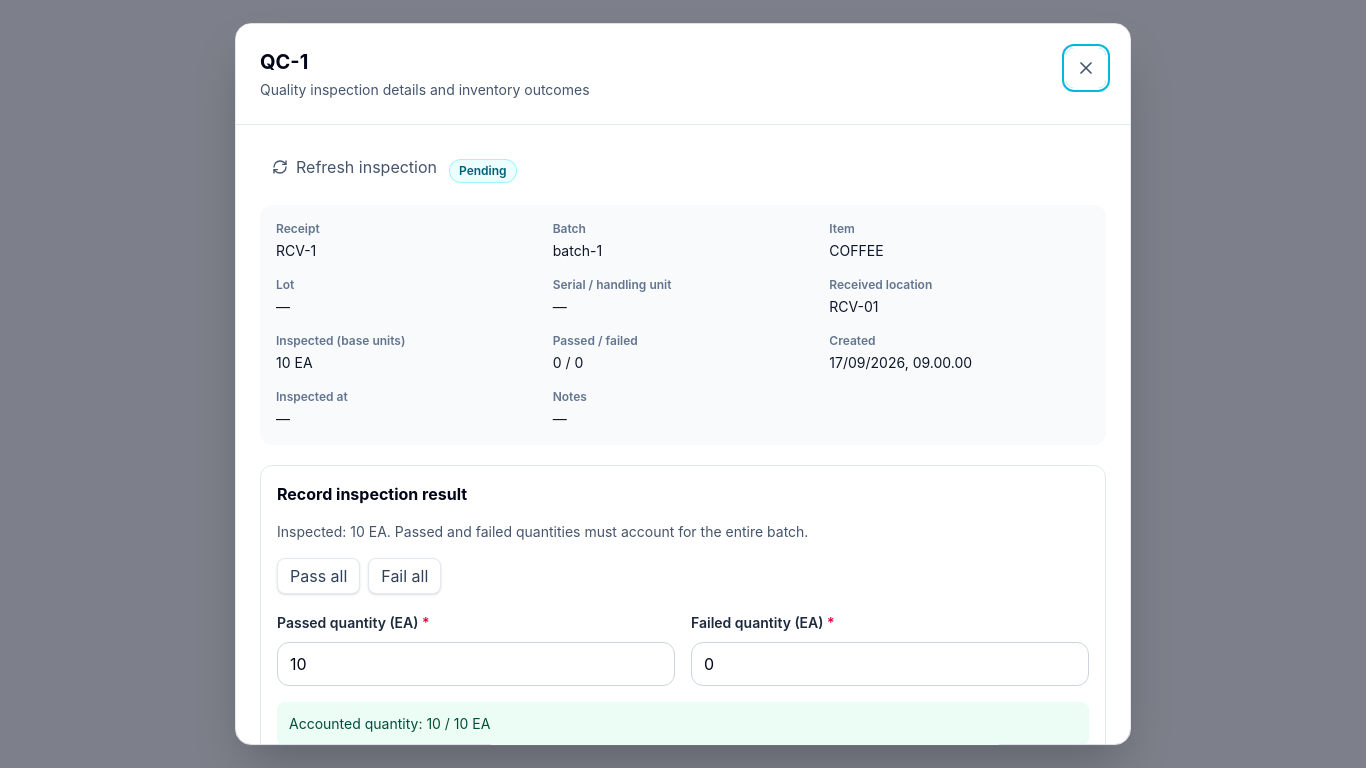
it: QC result workflow › keeps a concurrency error visible without displaying request IDs
Click the button "Fail all".
click(405, 576)  # box x1=368 y1=558 x2=441 y2=594
(page scrolled)
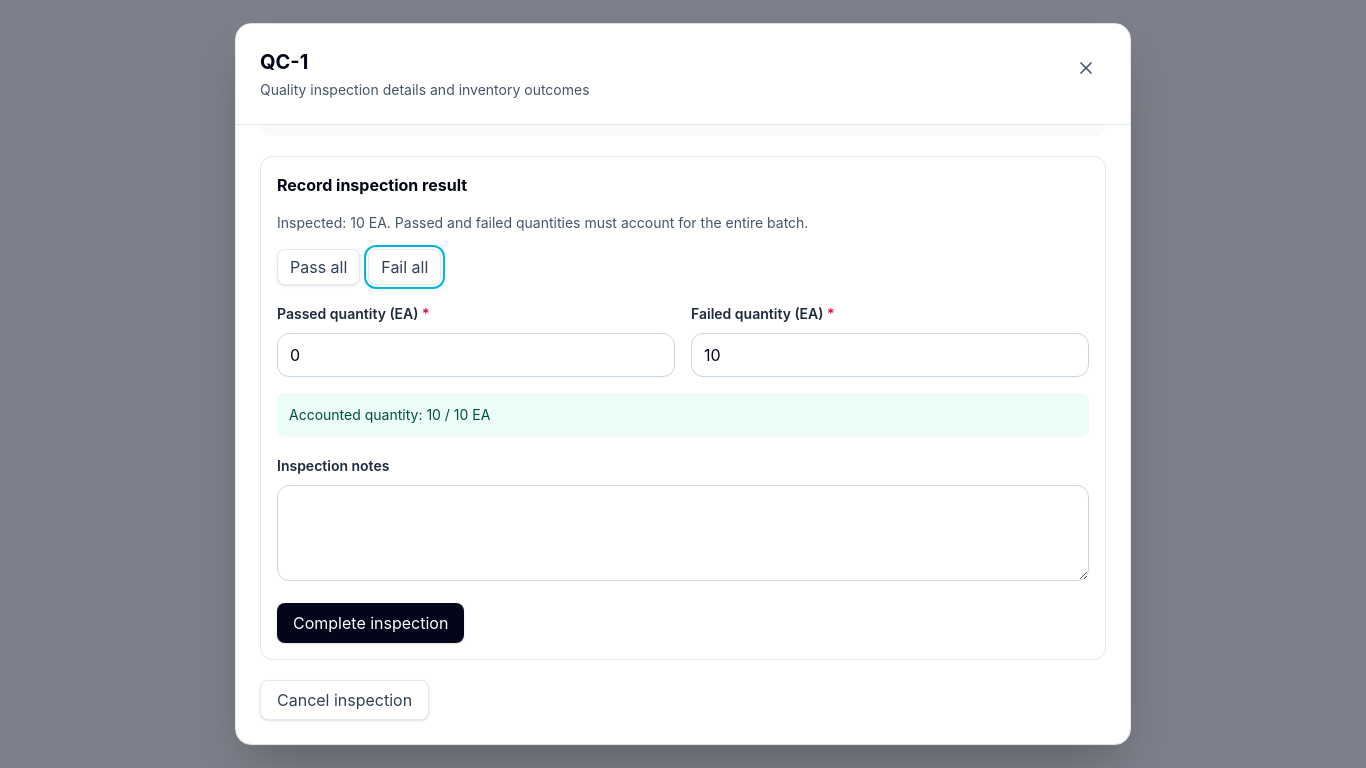
Click the button "Complete inspection".
click(371, 623)  # box x1=277 y1=603 x2=464 y2=643
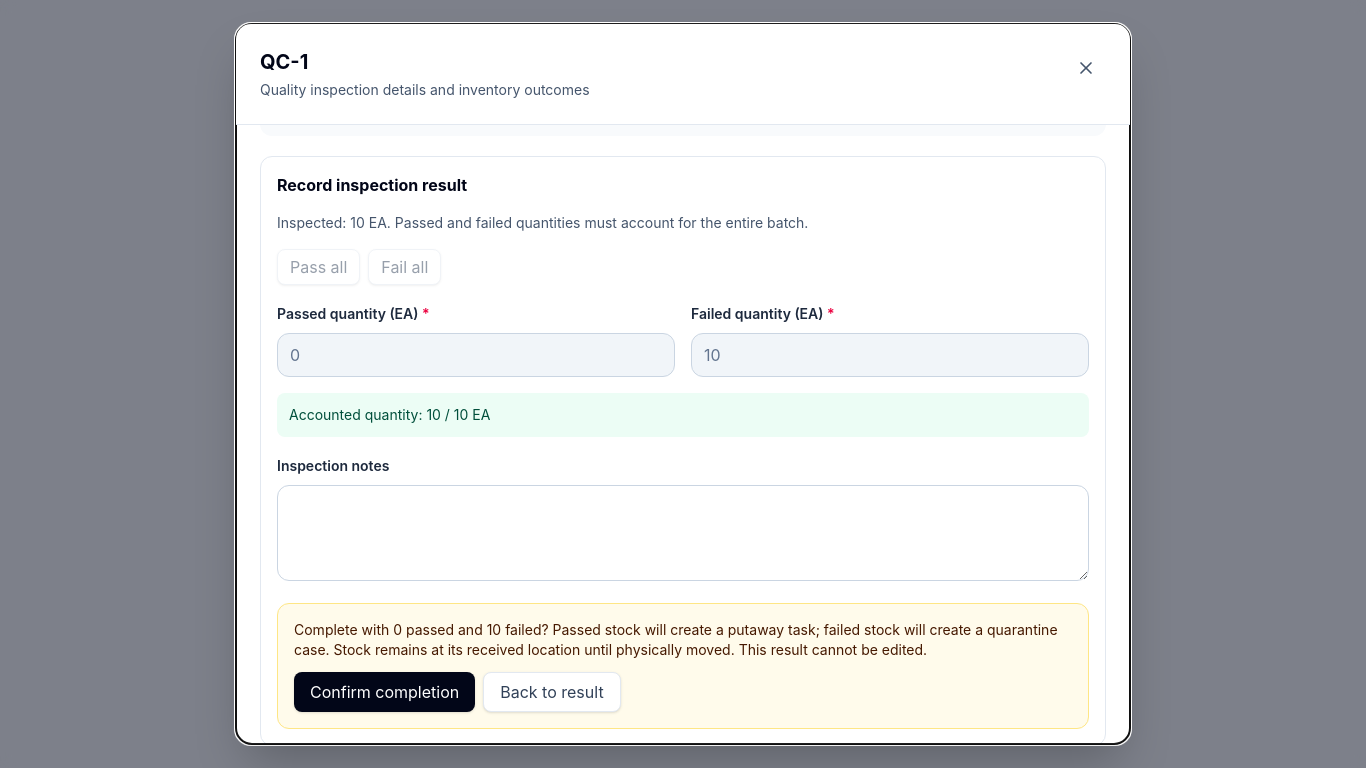
Click the button "Confirm completion".
click(385, 692)  # box x1=294 y1=672 x2=475 y2=712
(page scrolled)
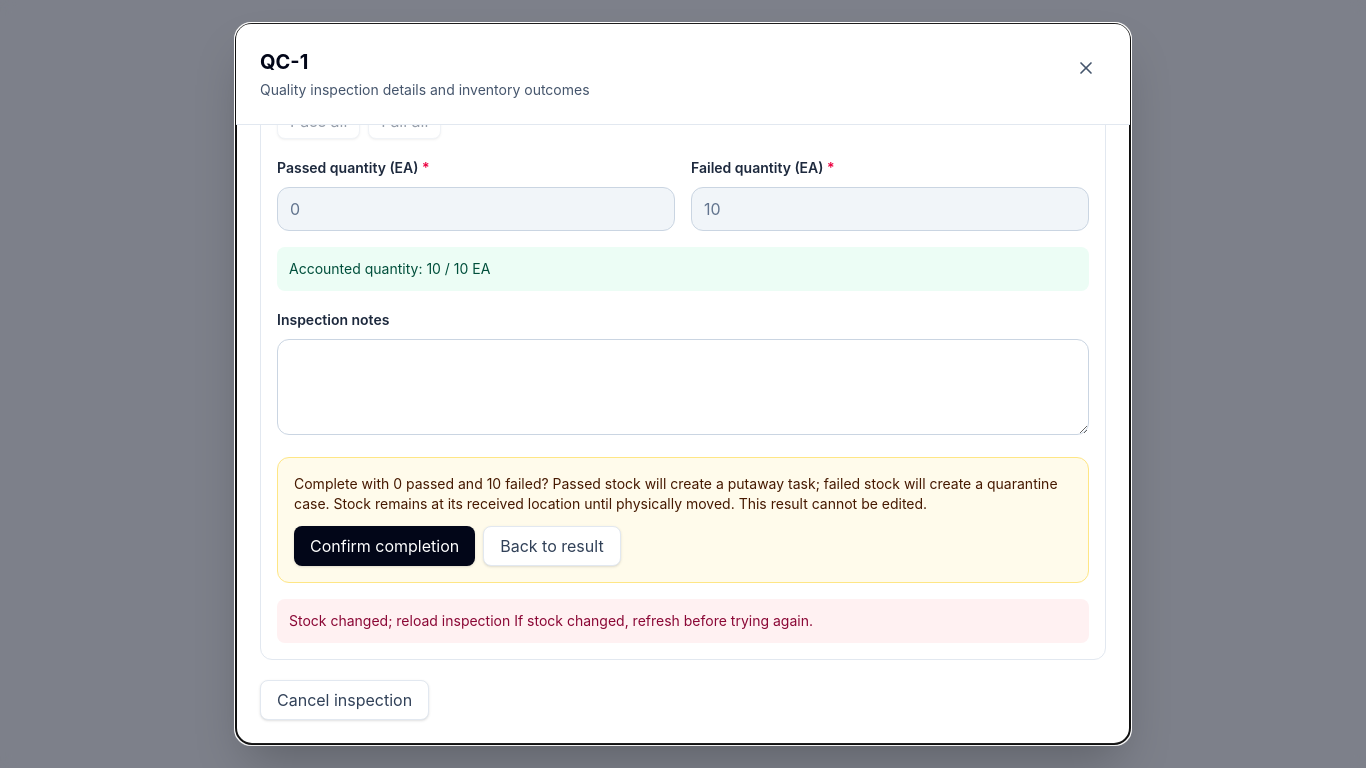
Expected: the message that starts with "Stock changed; reload inspection" is shown, x1=289 y1=612 x2=510 y2=629
